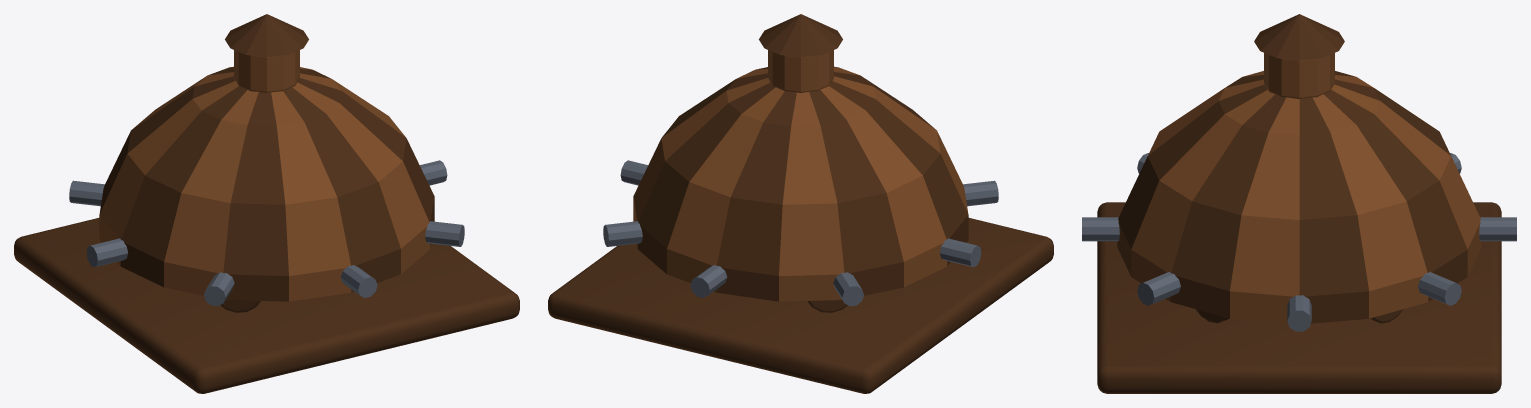
The model's file is carro_blindado.glb.
3 renders of one model, left to right at view 1: azimuth 30°, elevation 25°; view 2: azimuth 150°, elevation 25°; view 3: azimuth 270°, elevation 25°, orthographic. The views are drawn at different scales.
Visible parts, largest first — view 1: caparazon, peana, torreta_tejado, torreta, canon4, canon7, canon6, canon3, canon5, canon0; view 2: caparazon, peana, torreta_tejado, torreta, canon4, canon1, canon2, canon5, canon3, canon0; view 3: caparazon, peana, torreta_tejado, torreta, canon1, canon7, canon2, canon6, canon0.
Part boxes in pixels (x1,y1,x2,y2): caparazon: (99, 66, 434, 301); peana: (14, 218, 519, 393); torreta_tejado: (225, 14, 308, 57); torreta: (234, 50, 299, 92); canon4: (86, 238, 128, 267); canon7: (425, 221, 464, 246); canon6: (340, 265, 377, 297); canon3: (69, 180, 104, 206); canon5: (204, 272, 234, 306); canon0: (420, 160, 447, 185); caparazon: (633, 66, 968, 301); peana: (548, 218, 1053, 393); torreta_tejado: (759, 14, 842, 57); torreta: (768, 50, 833, 92); canon4: (939, 238, 981, 267); canon1: (603, 221, 642, 246); canon2: (690, 265, 727, 297); canon5: (963, 180, 998, 206); canon3: (833, 272, 863, 306); canon0: (620, 160, 647, 185); caparazon: (1117, 71, 1481, 323); peana: (1097, 202, 1501, 393); torreta_tejado: (1254, 14, 1344, 60); torreta: (1264, 53, 1334, 98); canon1: (1418, 272, 1461, 305); canon7: (1137, 272, 1180, 305); canon2: (1479, 217, 1516, 241); canon6: (1082, 217, 1119, 241); canon0: (1287, 295, 1311, 331).
Bounding box in the file's own units: 0.43 × 0.325 × 0.43.
